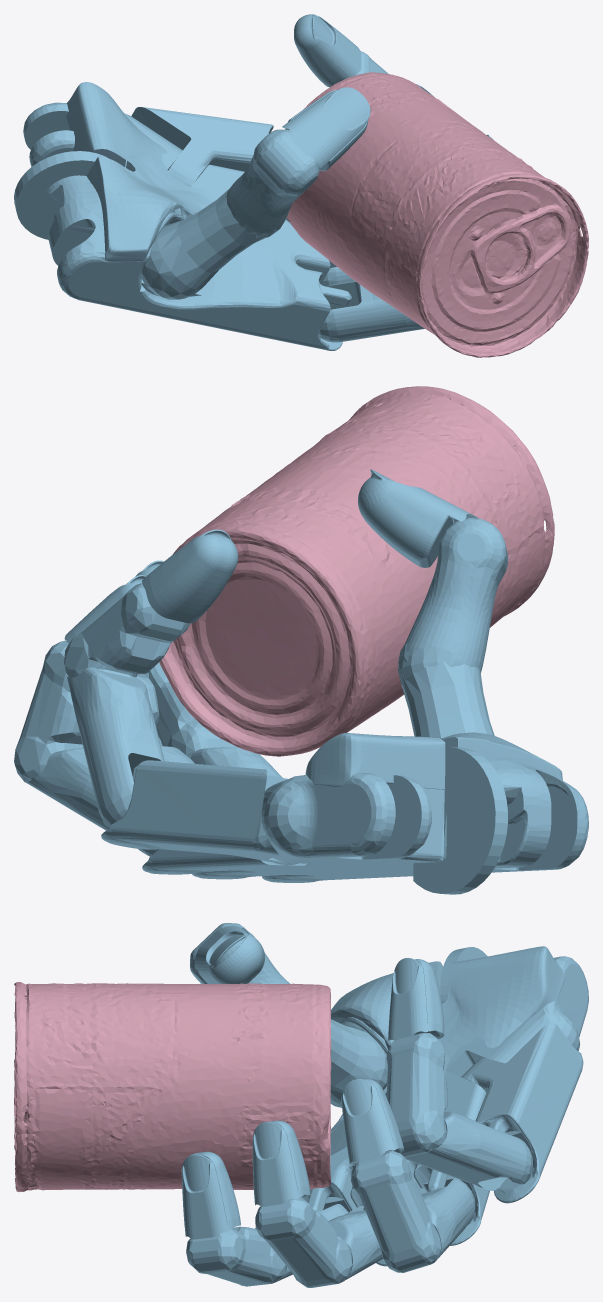
The picture shows the model from 3 angles, top to bottom: view 1: azimuth 30°, elevation 25°; view 2: azimuth 150°, elevation 25°; view 3: azimuth 270°, elevation 25°; orthographic projection. The views are drawn at different scales.
Visible parts, largest first — view 1: world; view 2: world; view 3: world.
Boxes of the visible parts, x1,y1,x2,y2 form: world: (14,14,588,357); world: (14,386,588,894); world: (14,923,588,1287).
Bounding box in the file's own units: 0.1697 × 0.1127 × 0.1846.
